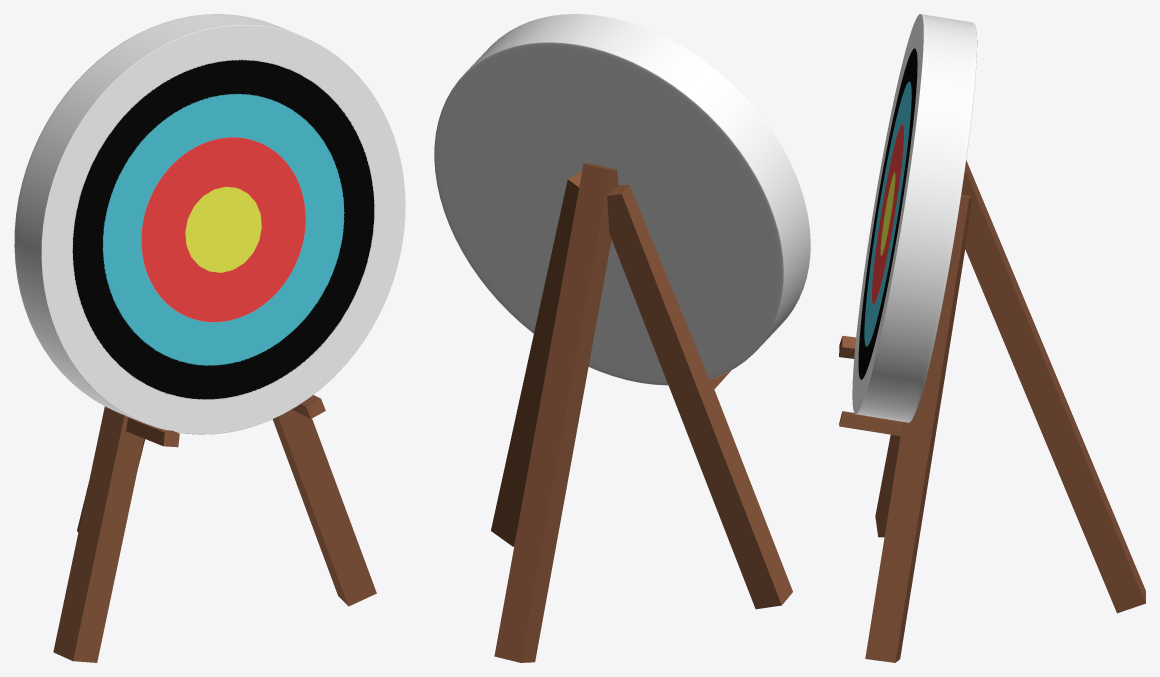
Rendered from target.glb.
The picture shows the model from 3 angles, left to right: view 1: azimuth 30°, elevation 25°; view 2: azimuth 150°, elevation 25°; view 3: azimuth 270°, elevation 25°; orthographic projection. The views are drawn at different scales.
Visible parts, largest first — view 1: pCylinder1, polySurface1; view 2: pCylinder1, polySurface1; view 3: pCylinder1, polySurface1.
Part boxes in pixels (bbox=[...]): pCylinder1: bbox=[14, 14, 405, 434]; polySurface1: bbox=[53, 395, 376, 662]; pCylinder1: bbox=[434, 14, 810, 385]; polySurface1: bbox=[491, 163, 792, 662]; pCylinder1: bbox=[852, 14, 977, 422]; polySurface1: bbox=[839, 160, 1145, 662].
Bounding box in the file's own units: 0.6336 × 0.9888 × 0.479.
2 materials, 1 textured.
